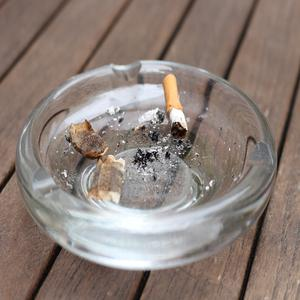cigarette: (161, 69, 190, 142)
